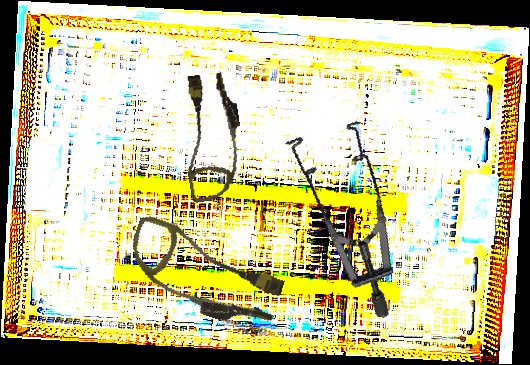Cannula: (117, 213, 292, 336), (173, 69, 251, 204)
Speculum: (247, 104, 436, 320)
